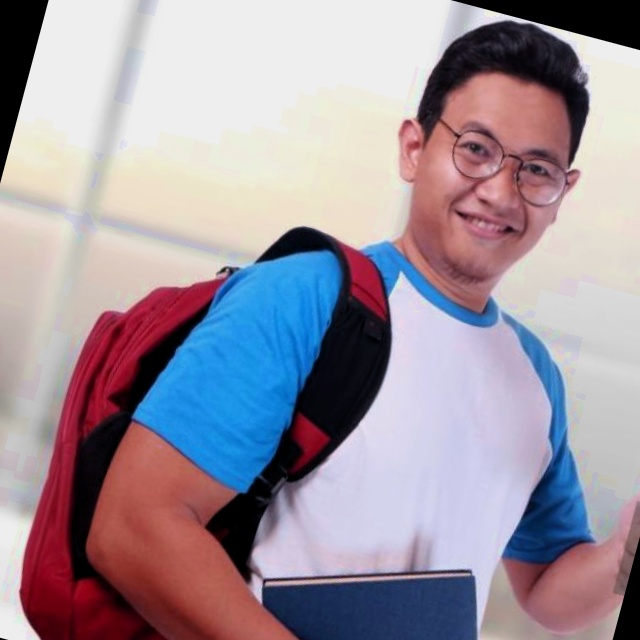Sin_Casco_Mascarrilla: (366, 0, 616, 299)
Sin_Chaleco: (171, 231, 591, 640)
